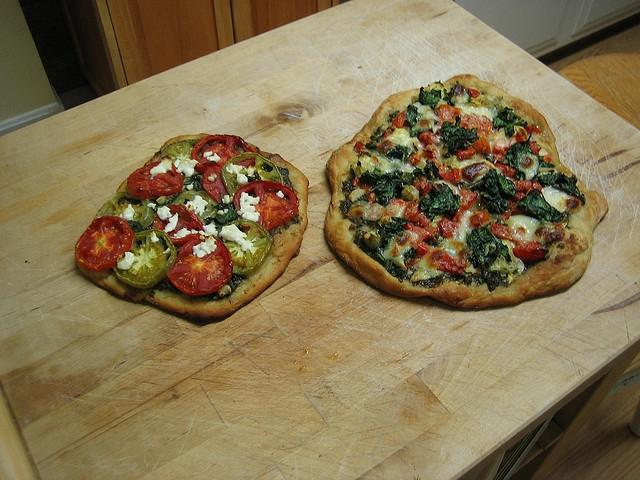tomato: (190, 135, 258, 204), (166, 236, 234, 296), (74, 214, 136, 272), (233, 181, 300, 231), (153, 204, 209, 244), (127, 162, 183, 200), (513, 240, 550, 262), (352, 176, 376, 203), (437, 104, 462, 126), (404, 222, 431, 240), (490, 221, 514, 241), (437, 218, 459, 239), (493, 163, 518, 181), (459, 188, 478, 210), (438, 168, 462, 183), (402, 202, 422, 220), (410, 240, 432, 256), (391, 110, 409, 129), (470, 211, 490, 228), (418, 131, 441, 145), (472, 138, 492, 154), (456, 146, 476, 161), (412, 179, 428, 192), (407, 152, 421, 166), (529, 142, 540, 156), (525, 125, 542, 134), (512, 192, 526, 202), (466, 88, 480, 98), (354, 140, 364, 153), (499, 212, 511, 221), (424, 148, 434, 158), (532, 182, 543, 191)
